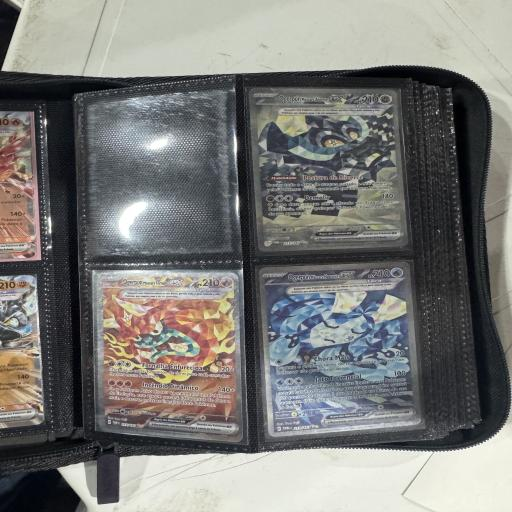card: (258, 258, 422, 438), (247, 78, 410, 257), (96, 272, 244, 446)
